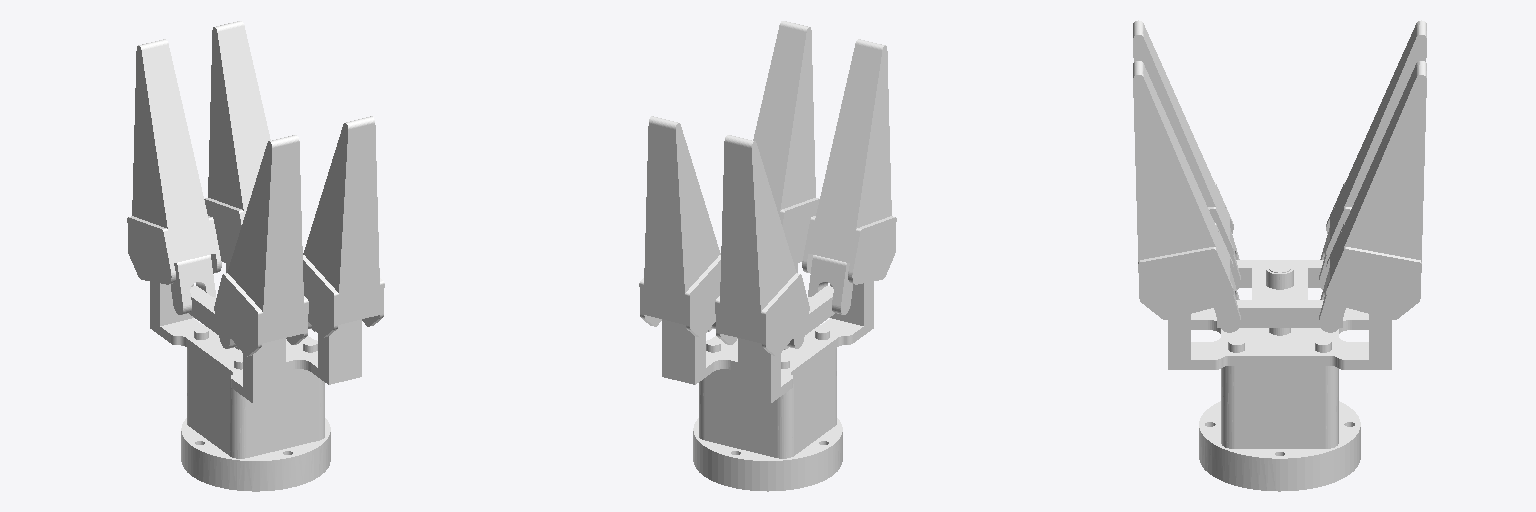
URDF robot description (two_finger_gripper):
<?xml version="1.0" encoding="utf-8"?>

<robot name="two_finger_gripper">
  <link name="gripper_link">
    <inertial>
      <origin xyz="0 0 0"  rpy="0 0 0" />
      <mass value="0.76174" />
      <inertia ixx="0.000673719313504642" ixy="-1.30755705487849E-08" ixz="-1.3262407834936E-06" iyy="0.000666781851440875" iyz="-1.80735801539484E-11" izz="0.00123663316539255" />
    </inertial>
    <visual>
      <origin xyz="0 0 0" rpy="0 0 0" />
      <geometry>
        <mesh filename="package://mmc1_description/meshes/gripper/two_finger_link.STL" />
      </geometry>
      <material name="">
        <color rgba="1 1 1 1" />
      </material>
    </visual>
    <collision>
      <origin xyz="0 0 0" rpy="0 0 0" />
      <geometry>
        <mesh  filename="package://mmc1_description/meshes/gripper/two_finger_link.STL" />
      </geometry>
    </collision>
  </link>
	
	 <!-- Gazebo -->
    <gazebo reference="gripper_link">
		<material>Gazebo/White</material>
    </gazebo>
	
</robot>

--- Facts derived from the render (not from the file) ---
3 views of the same robot in one strip: view 1: azimuth 30°, elevation 25°; view 2: azimuth 150°, elevation 25°; view 3: azimuth 270°, elevation 25° (orthographic).
Model two_finger_gripper with 1 links and 0 joints (none), rooted at gripper_link, posed all joints at 0.
Links seen in each view (by area): view 1: gripper_link; view 2: gripper_link; view 3: gripper_link.
Boxes of the visible links, x1=… form: gripper_link: x1=127, y1=21, x2=384, y2=491; gripper_link: x1=639, y1=21, x2=896, y2=491; gripper_link: x1=1133, y1=20, x2=1426, y2=491.
Bounding box of the posed robot: 0.058 × 0.1055 × 0.1622 m (x, y, z).
1 mesh visuals loaded from 1 distinct referenced files (1 binary STL).
